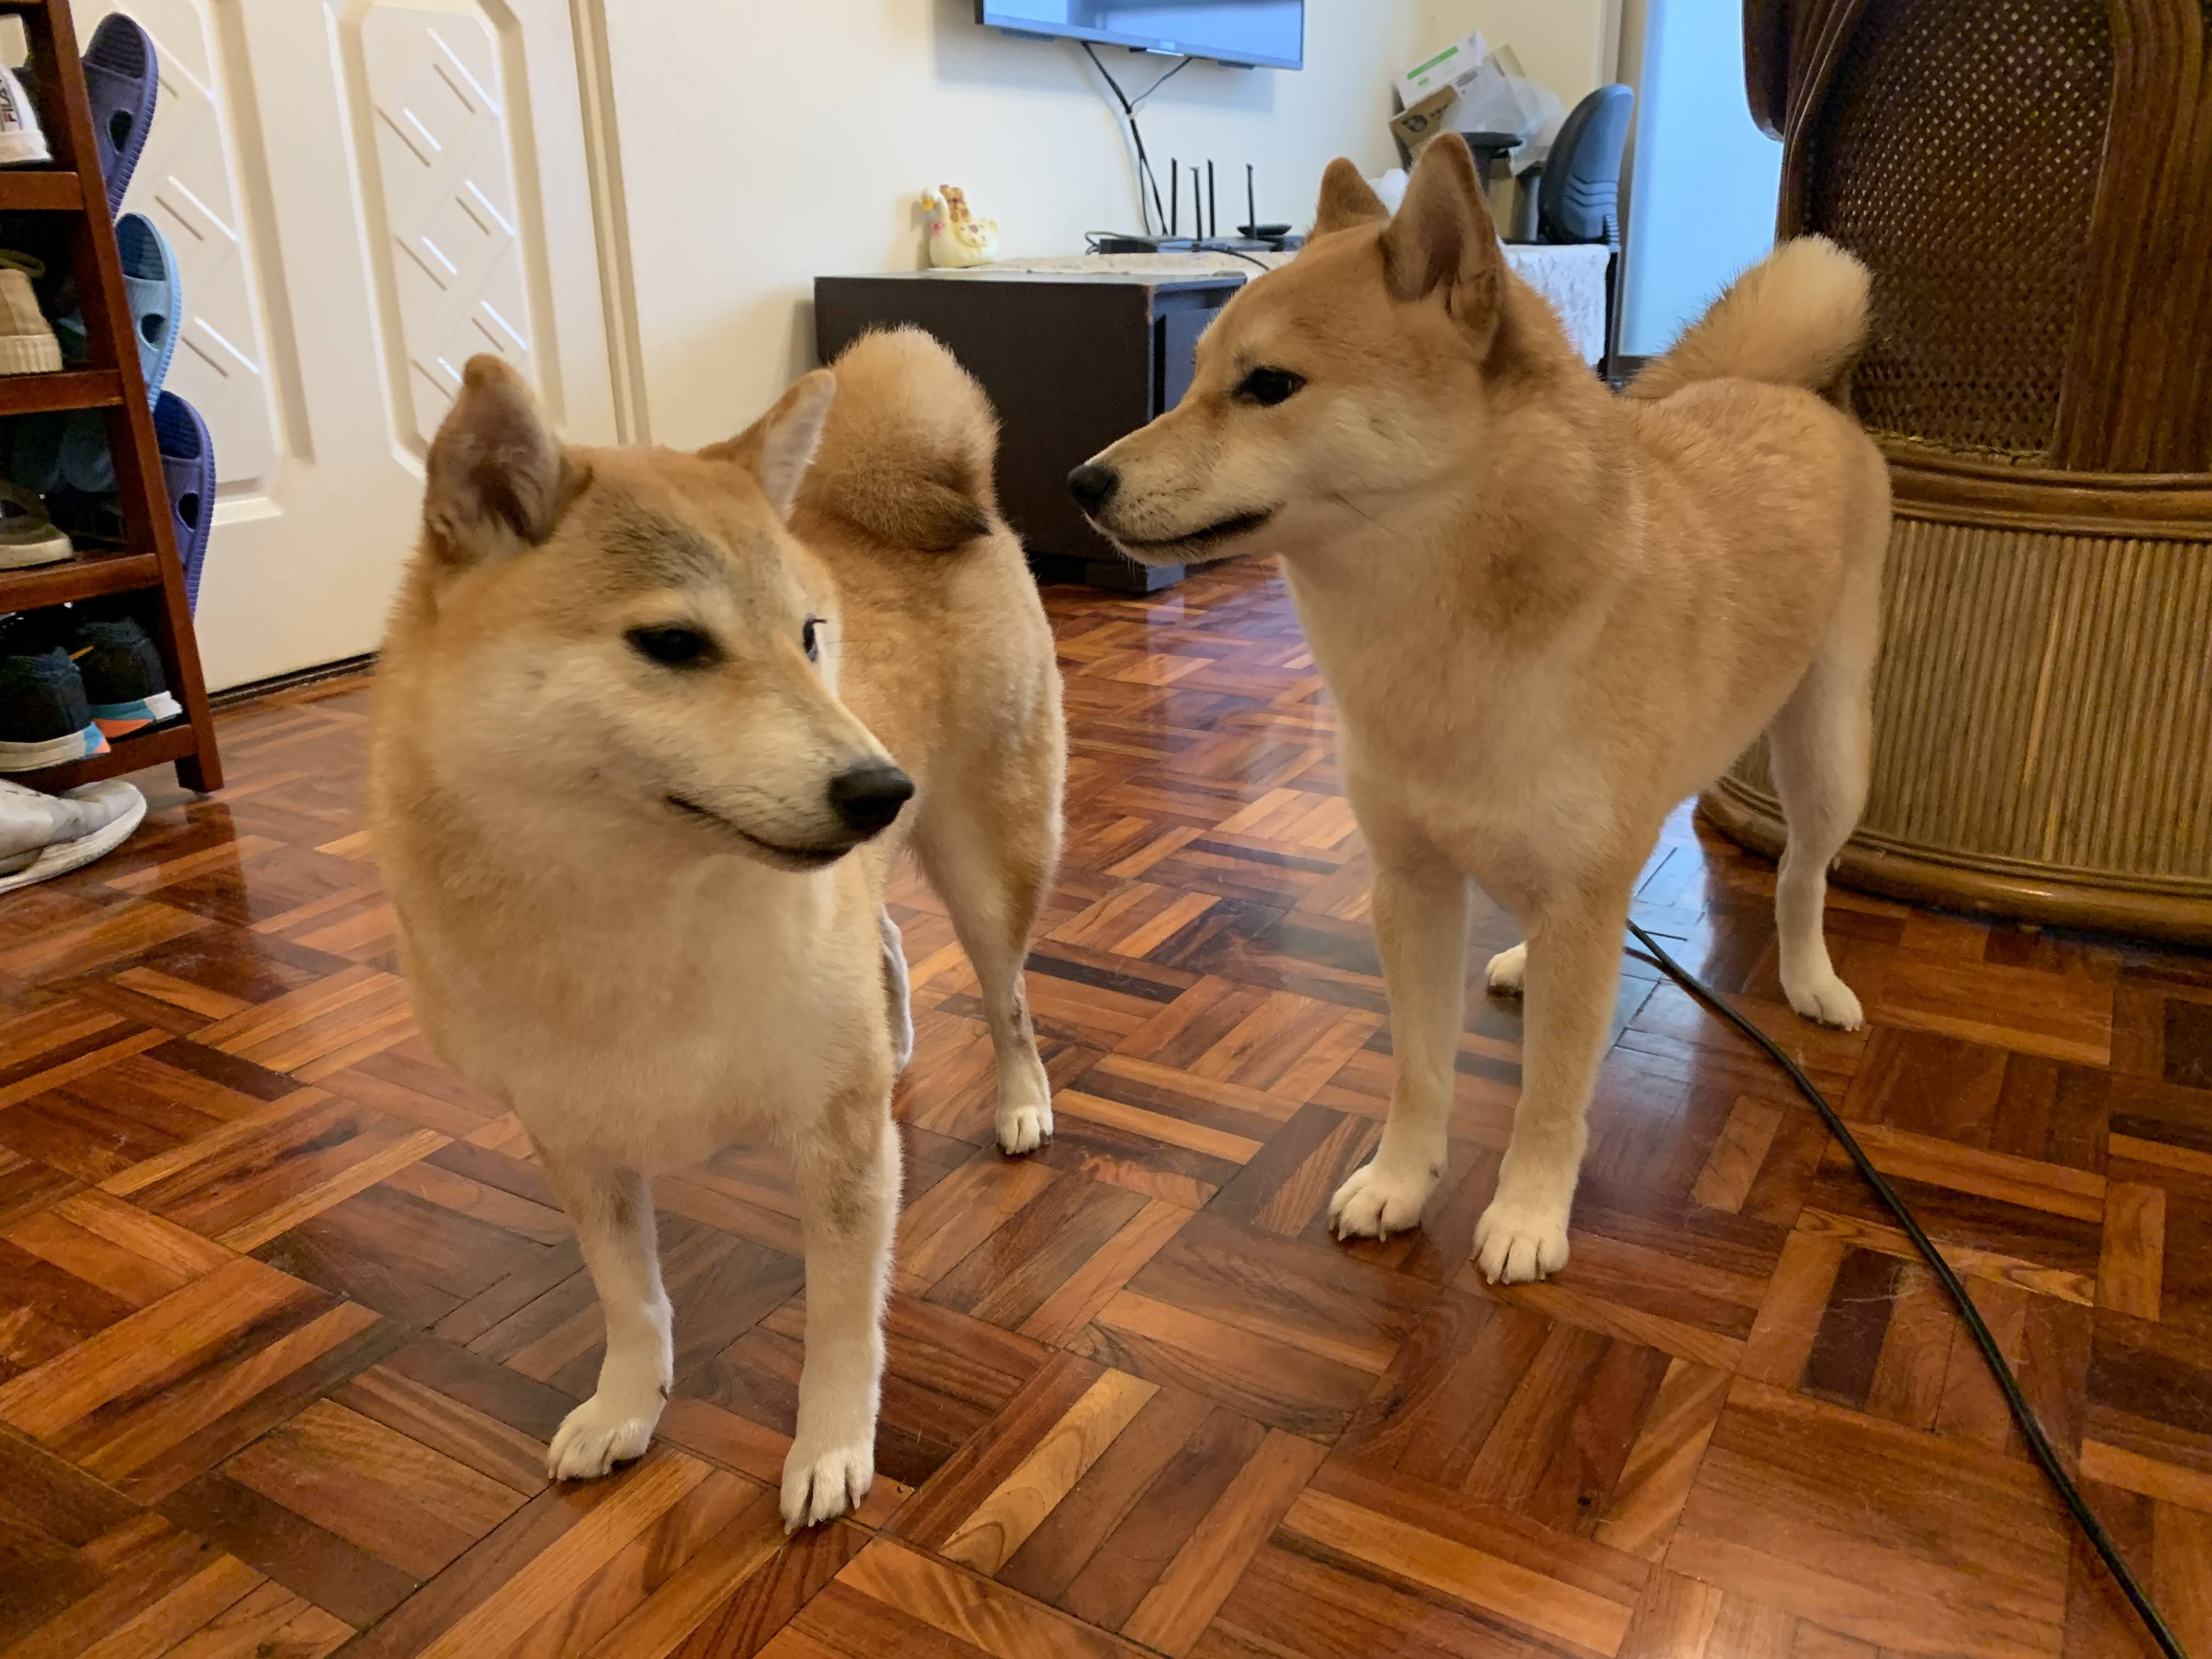Stand up: (1054, 124, 2064, 1330), (338, 263, 1061, 1560)
